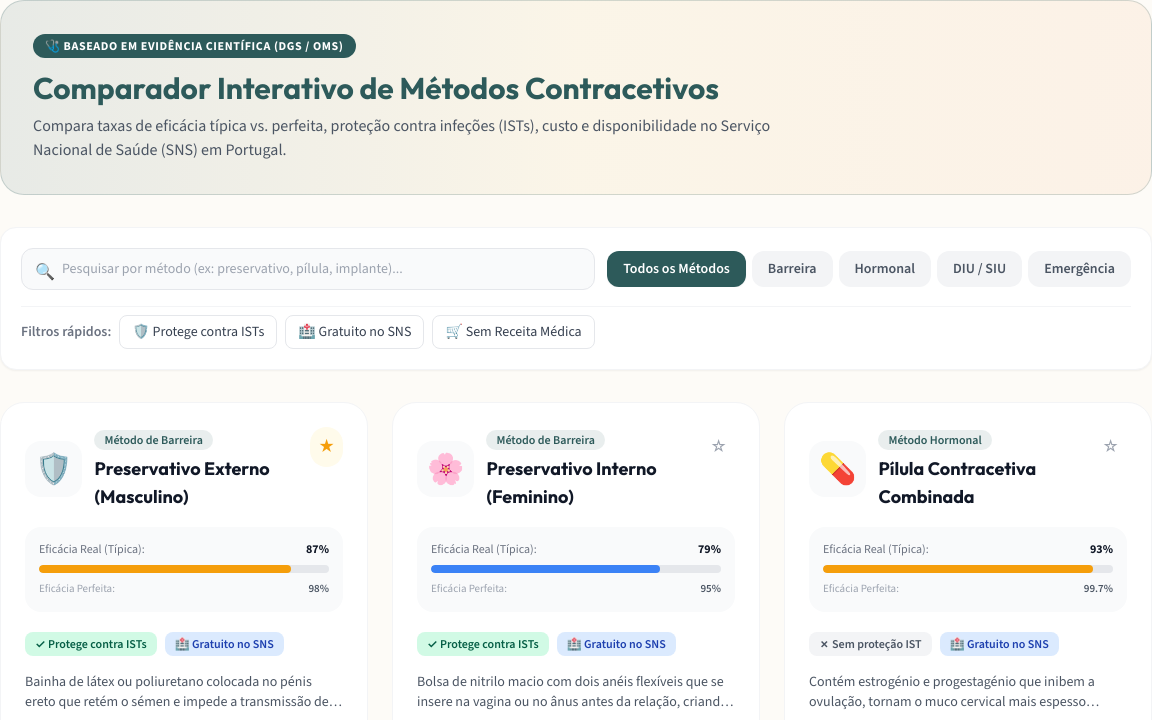
ContraceptiveComparator › clears all filters when clear button clicked
Type "pílula" into the field with placeholder "Pesquisar por método" at (308,269), box [21,248,595,290]
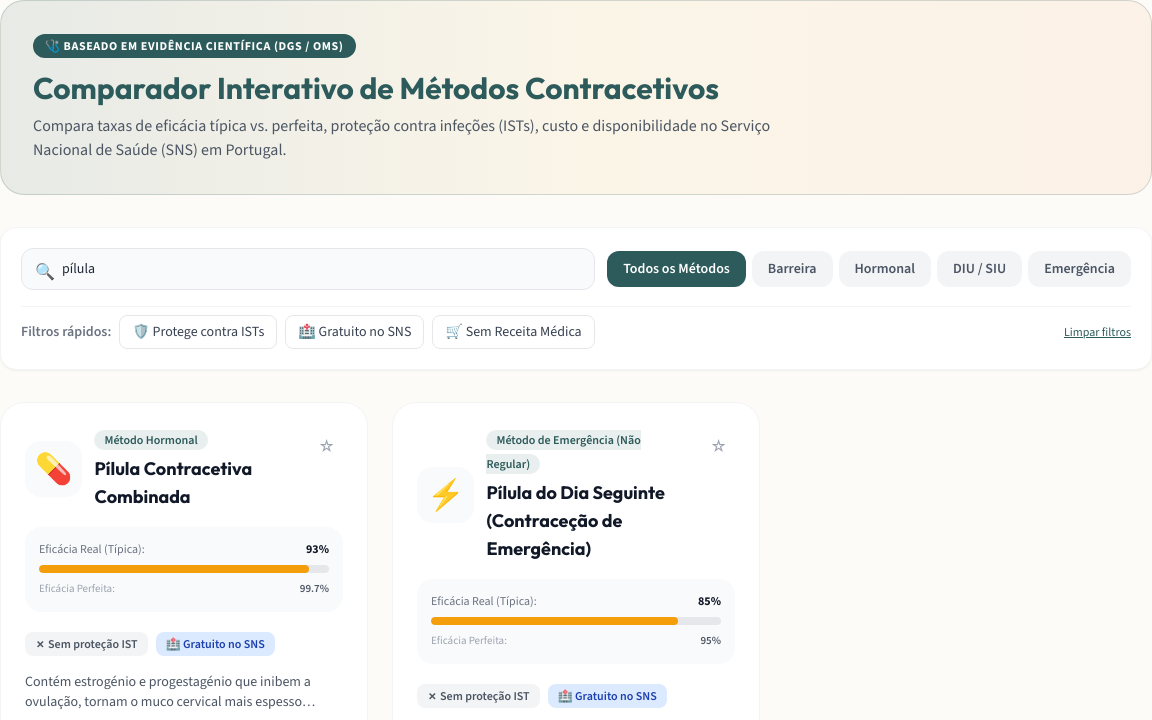
Click the button "Limpar filtros" at (1098,332), box [1064,324,1131,340]
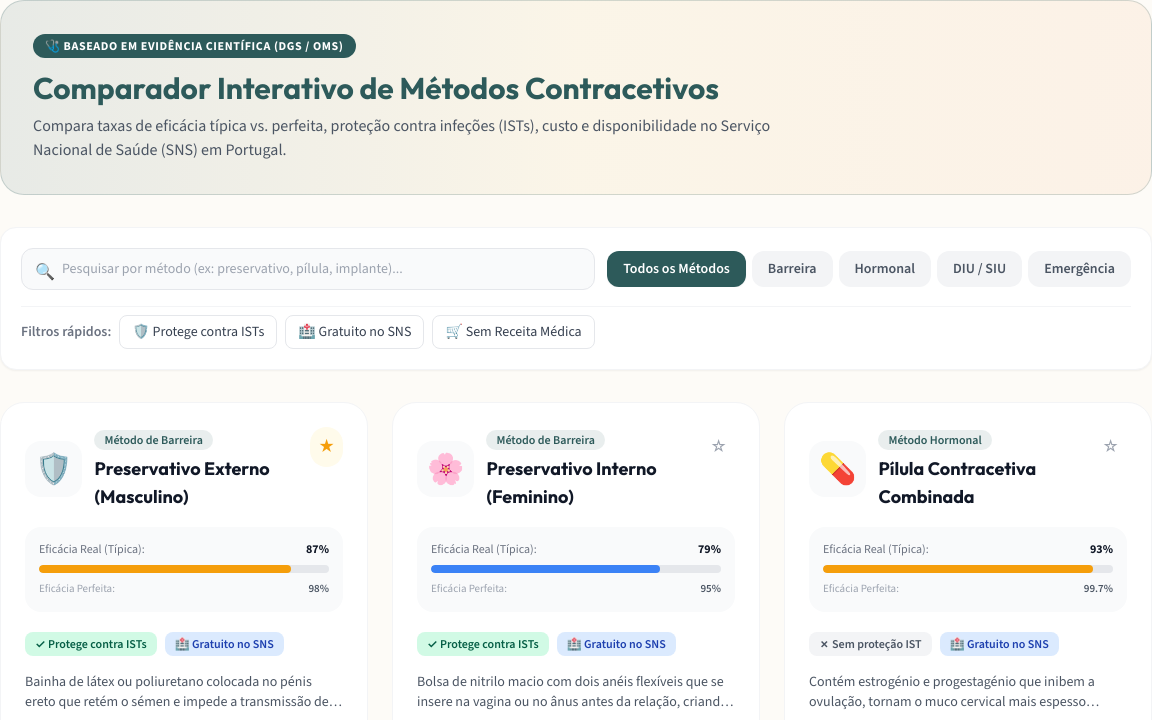
Expected: the field with placeholder "Pesquisar por método" is empty, [21,248,595,290]
